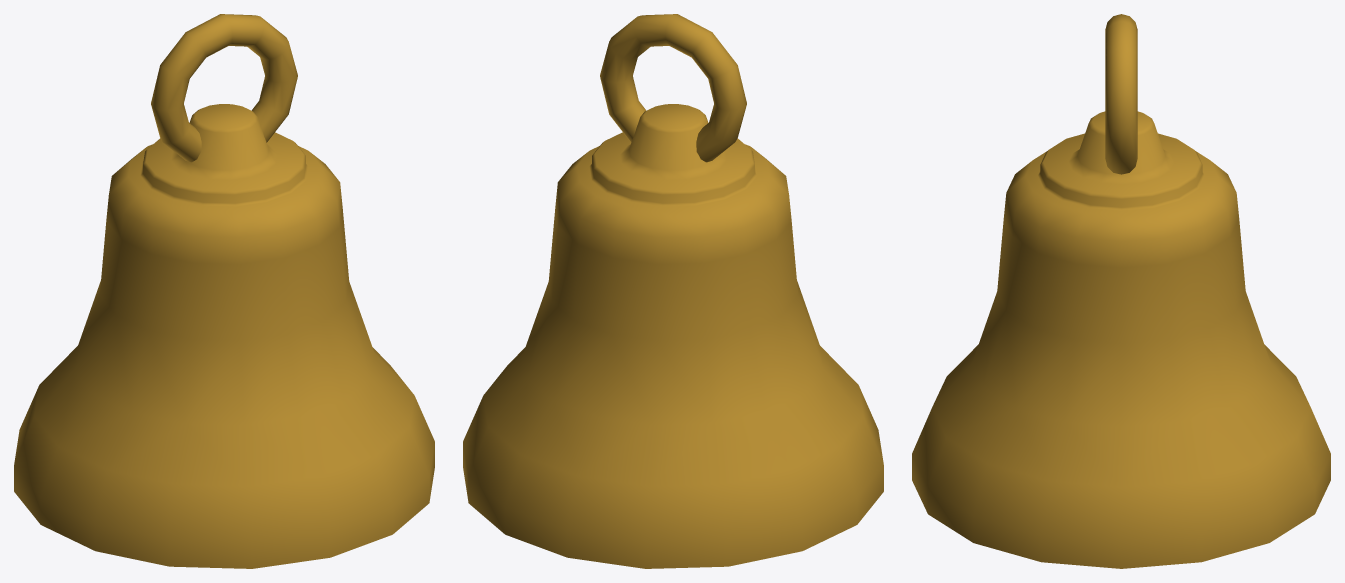
File: Bell.gltf
3 renders of one model, left to right at view 1: azimuth 30°, elevation 25°; view 2: azimuth 150°, elevation 25°; view 3: azimuth 270°, elevation 25°, orthographic.
Parts seen in each view (by area): view 1: node-0; view 2: node-0; view 3: node-0.
Boxes of the visible parts, <box> form: node-0: <box>14,14,434,568</box>; node-0: <box>463,14,883,568</box>; node-0: <box>912,14,1330,568</box>.
Bounding box in the file's own units: 0.1166 × 0.1419 × 0.1166.
